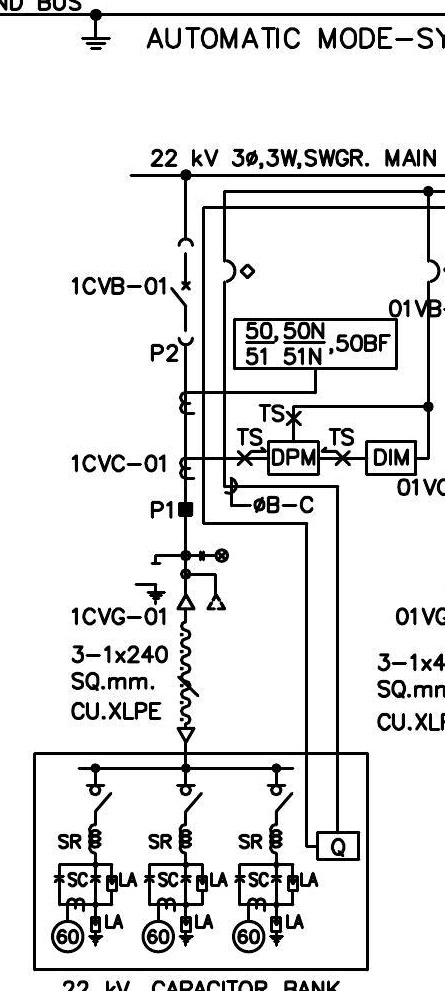22_breaker: (169, 237, 195, 347)
22_cap_bank: (32, 751, 370, 972)
22_gs: (133, 561, 167, 606)
22_ll: (198, 547, 230, 564)
DIM: (364, 439, 418, 477)
DPM: (266, 439, 321, 477)
Q: (315, 831, 361, 862)
terminator_single: (176, 726, 197, 744)
terminator_w_future: (175, 572, 227, 611)
